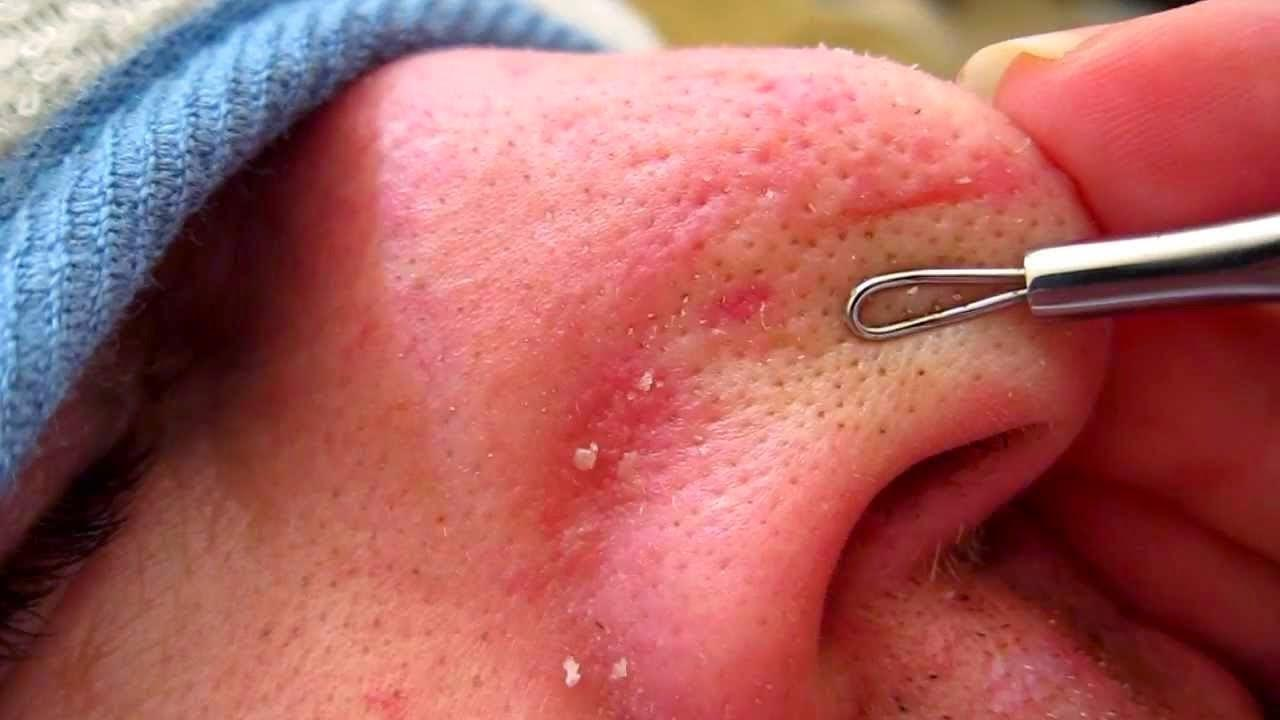Acne: (501, 43, 1099, 720)
